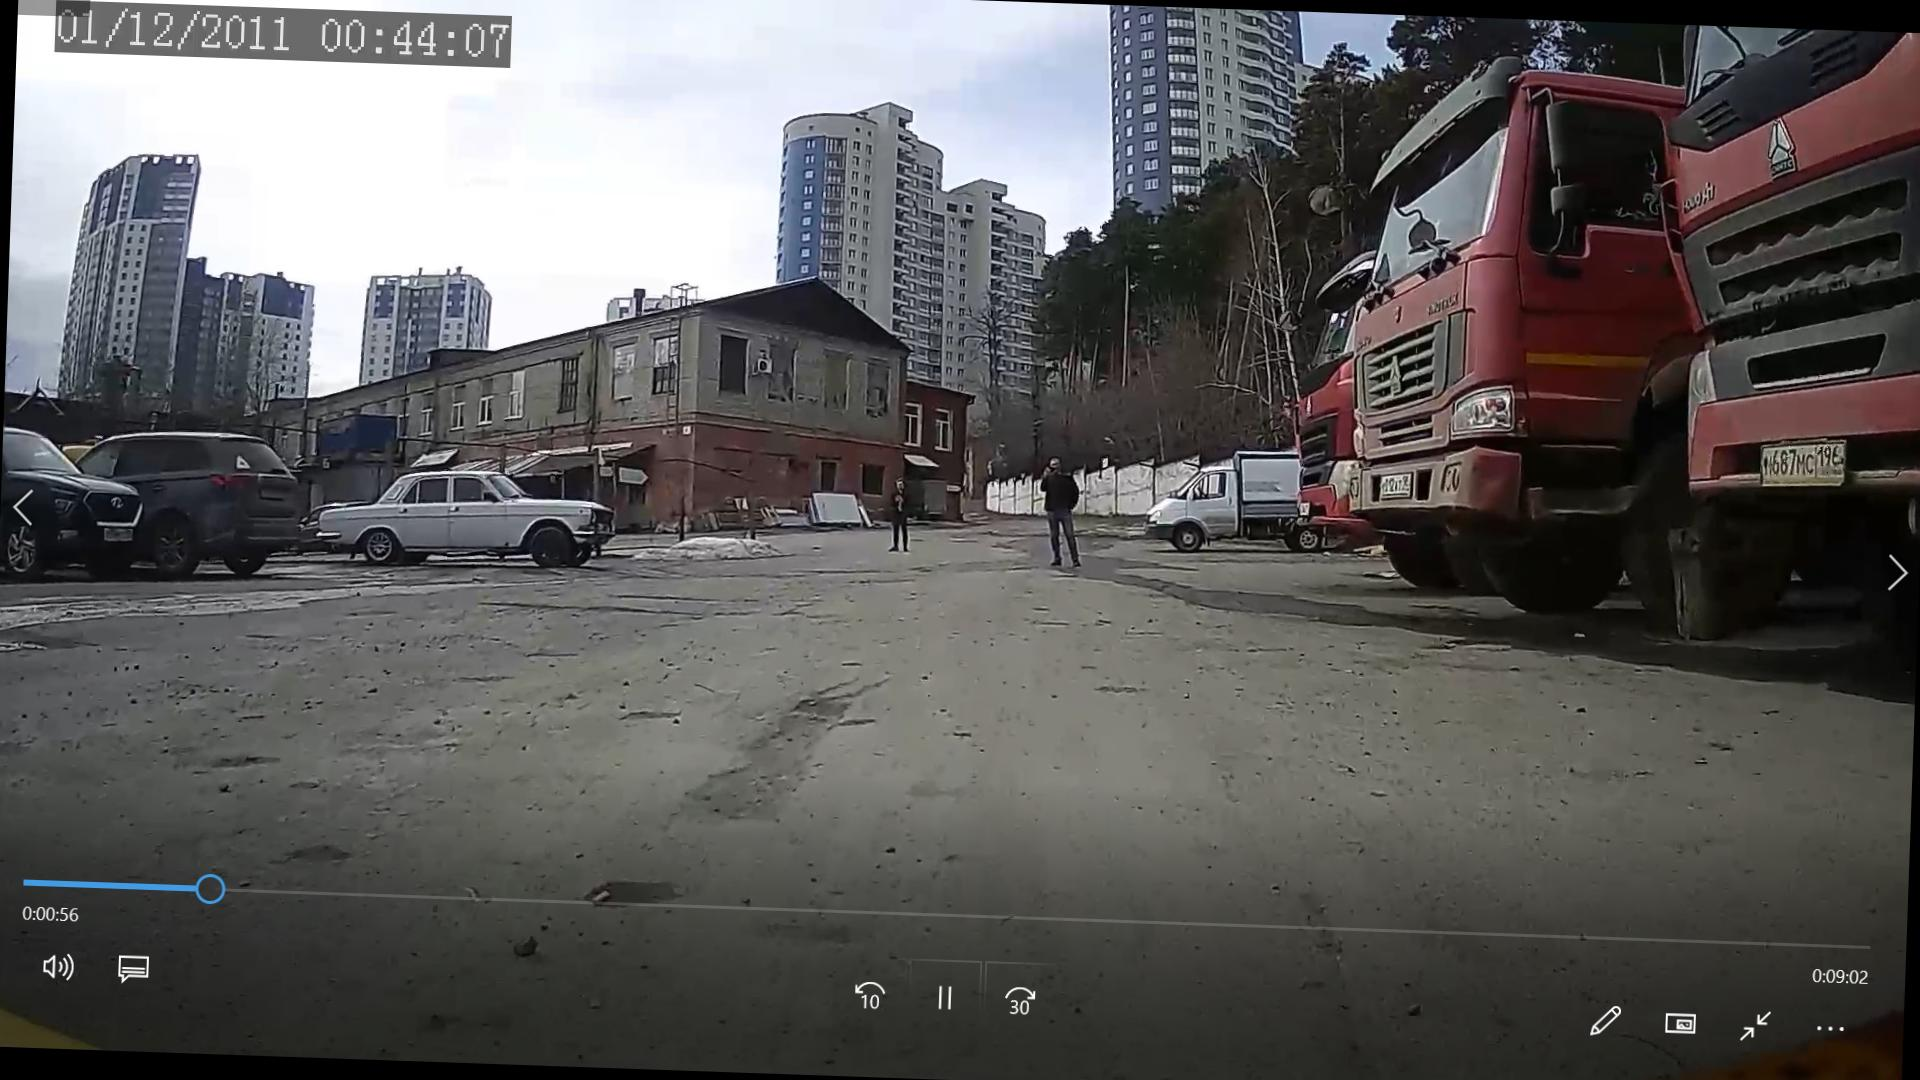plate: (1772, 447, 1843, 481)
